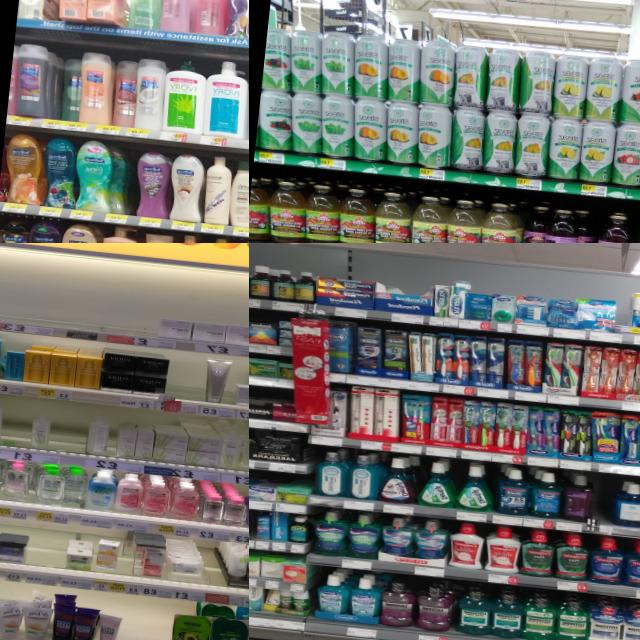100% O.O.S: (590, 474, 612, 533), (249, 509, 255, 547)
100- O.O.S: (0, 277, 58, 335), (164, 352, 206, 414), (104, 301, 160, 347), (25, 524, 66, 586), (48, 404, 88, 466), (57, 291, 104, 341), (0, 397, 33, 459), (134, 597, 173, 640), (201, 540, 222, 602), (113, 596, 139, 640)
